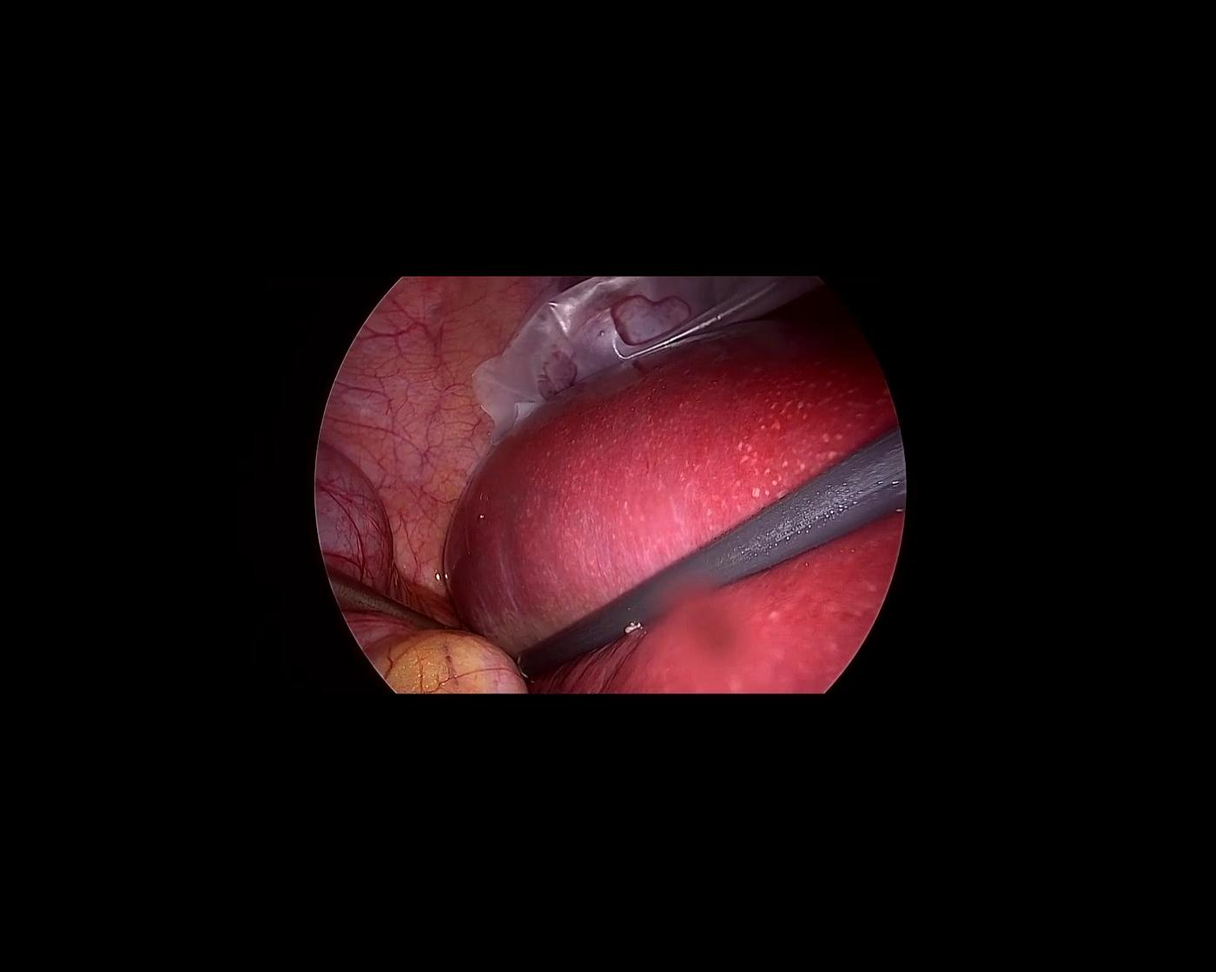Bag: (449, 190, 834, 441)
Forceps: (492, 429, 929, 690), (310, 559, 457, 661)
Gallbladder: (285, 428, 426, 647)
Liver: (444, 317, 903, 694)
